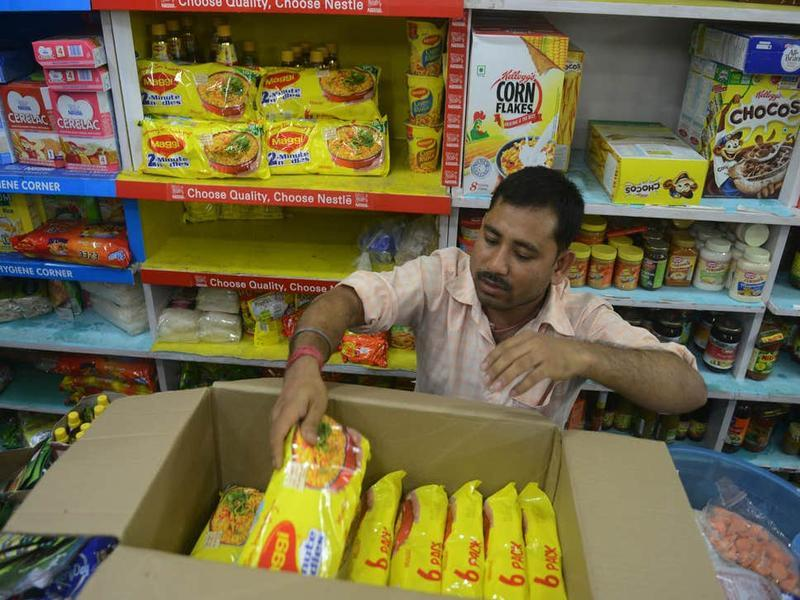maggi-family: (256, 411, 359, 582), (143, 116, 271, 180), (262, 116, 390, 175), (137, 60, 262, 120), (260, 63, 383, 122)
